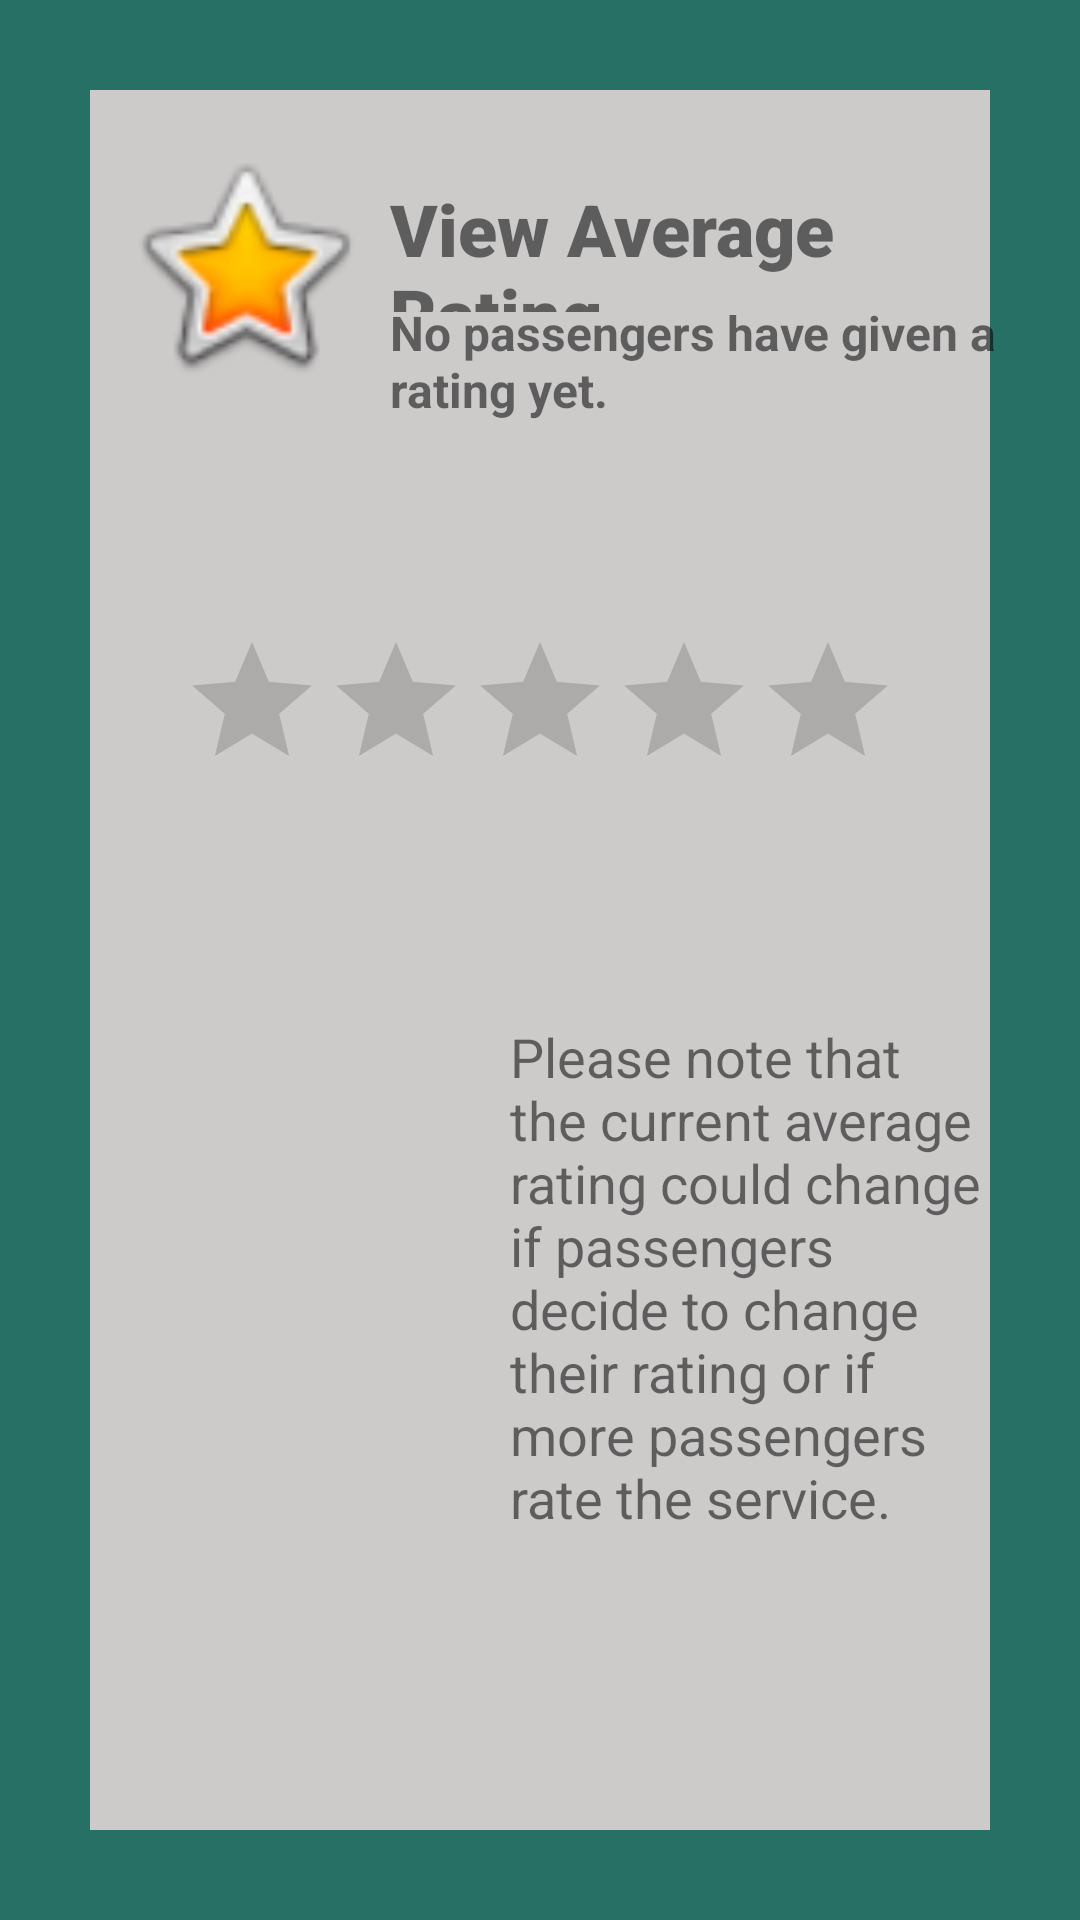

Named icons in this screenshot (1080px x 1920px) and their centers, (x,y):
star on: (246,267)
